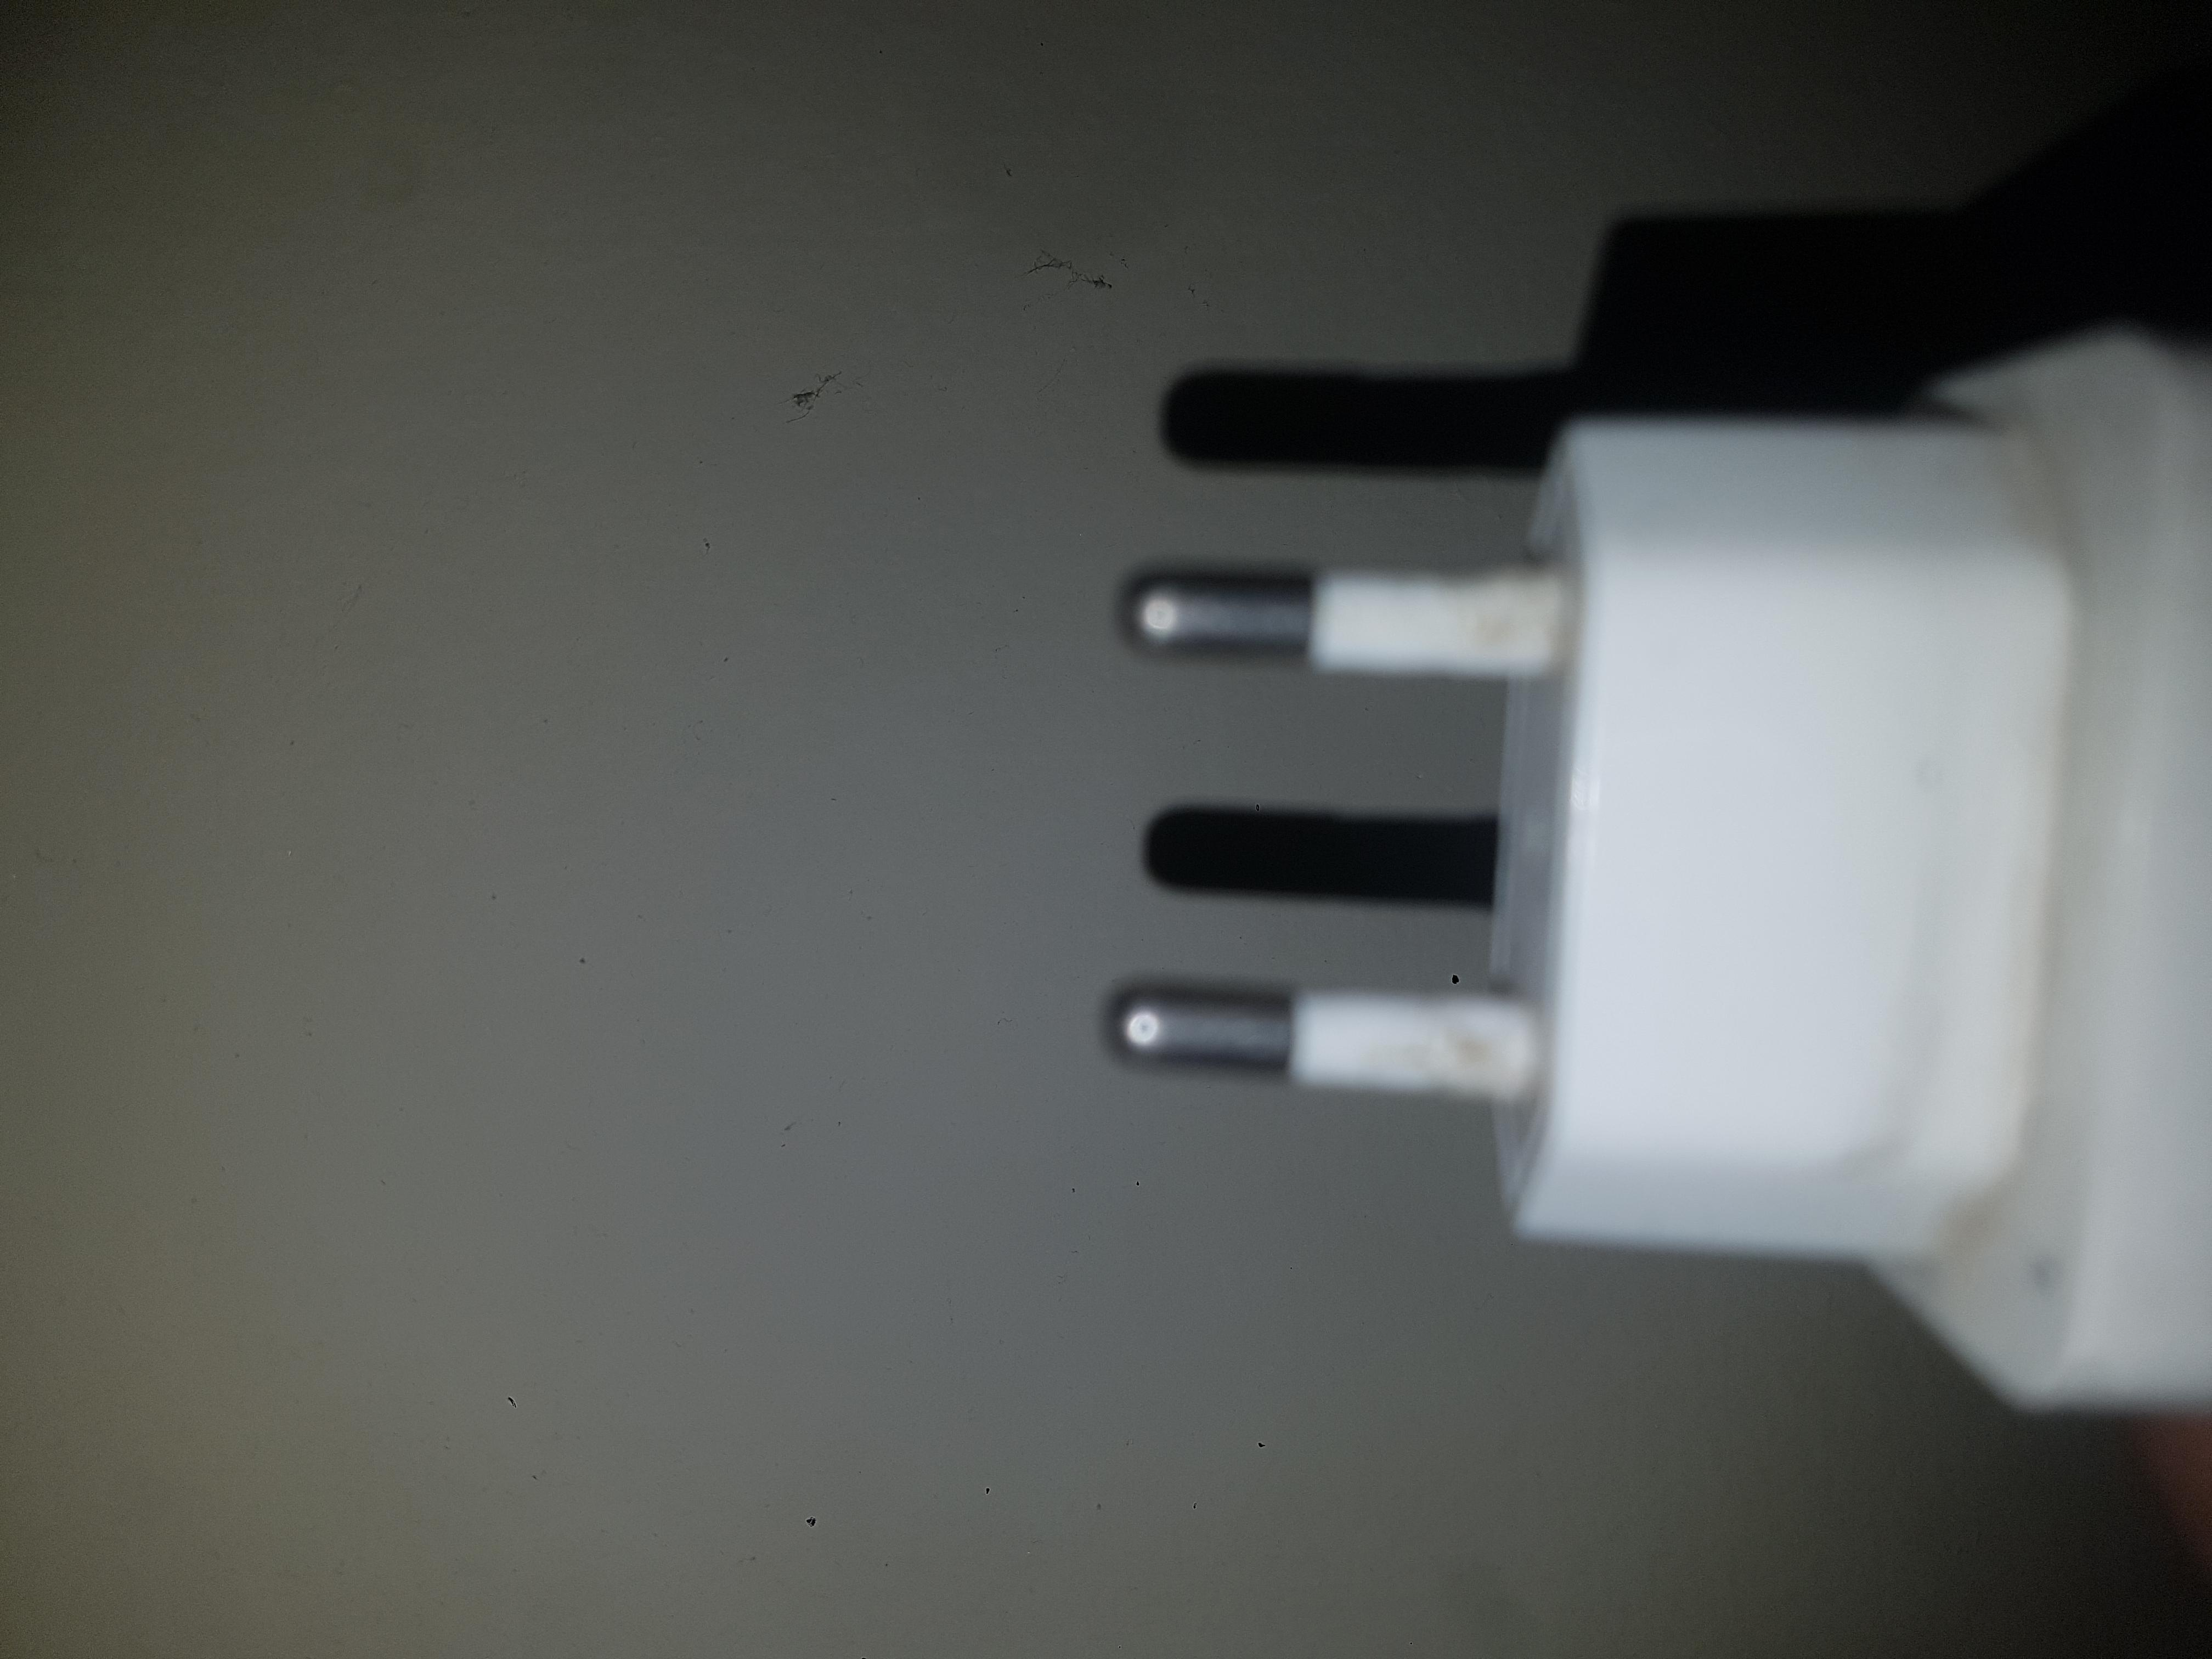electronic: (291, 807, 1815, 1659)
